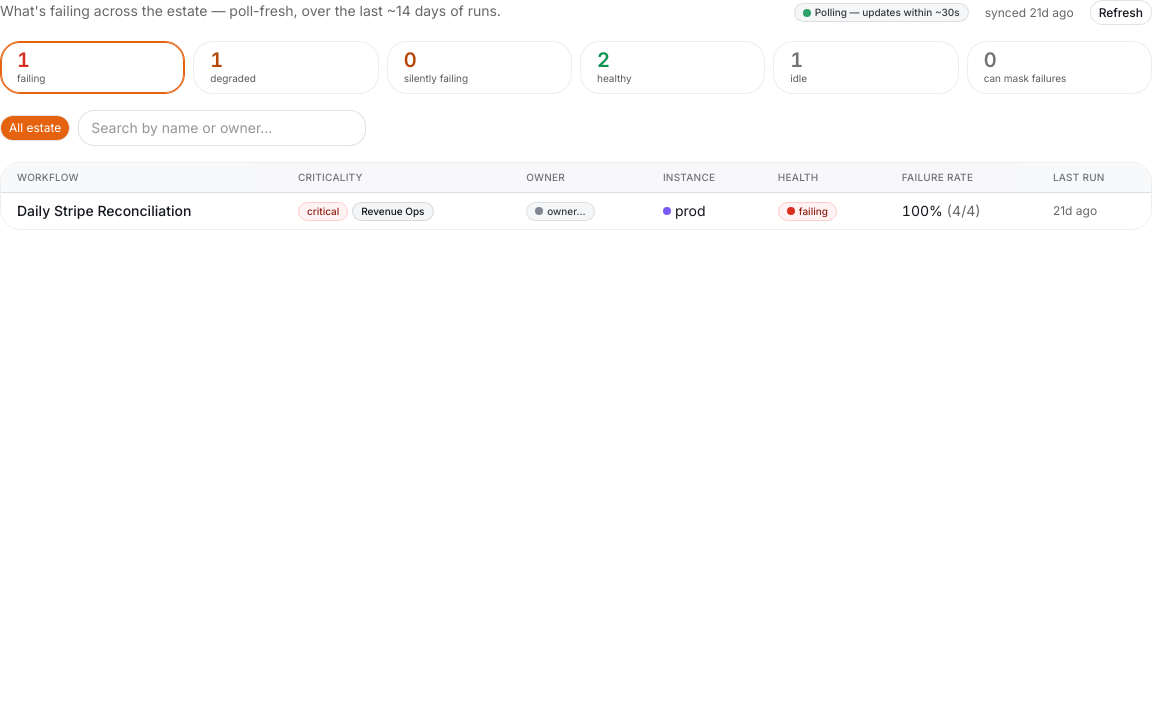
Test: Health view — UI-presence (rule 11) › clicking a failing row opens the detail drawer for that workflow
// Click the first failing row.
What coordinates should you click on to do the following:
click the row that starts with "Daily Stripe Reconciliation"
I would click on:
 (576, 211)
Its box is x1=1 y1=193 x2=1151 y2=229.
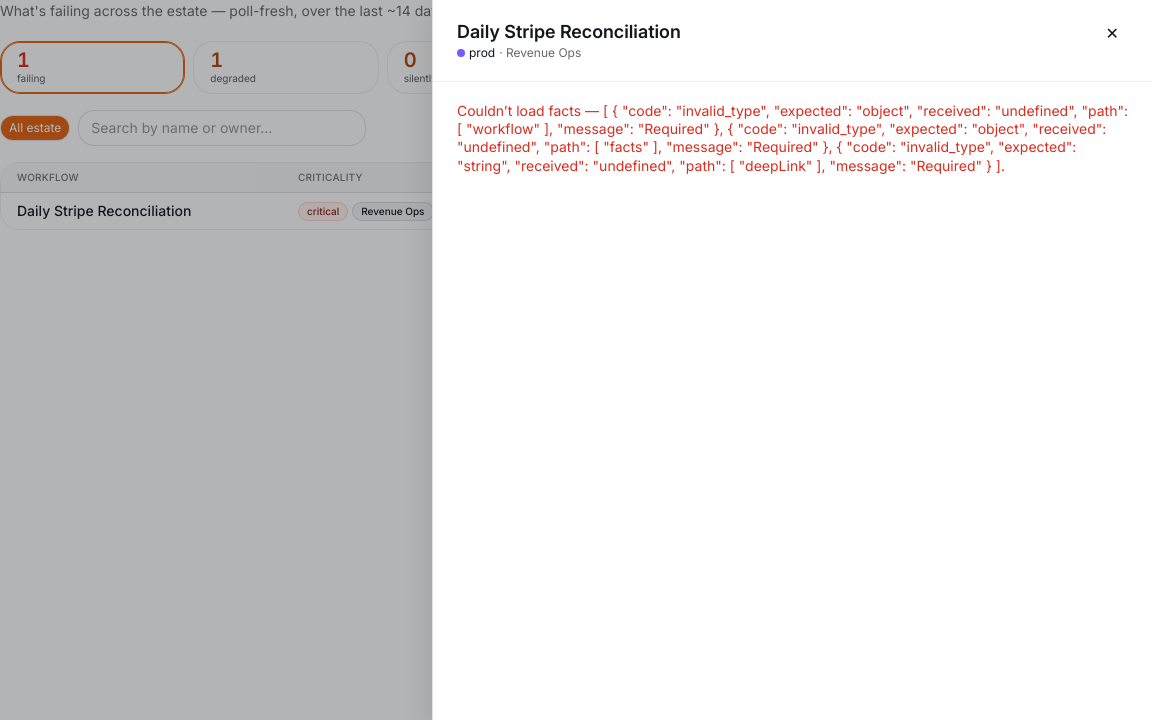
Expected: the dialog is shown
Expected: the dialog shows "Daily Stripe Reconciliation", x1=457 y1=21 x2=681 y2=42
